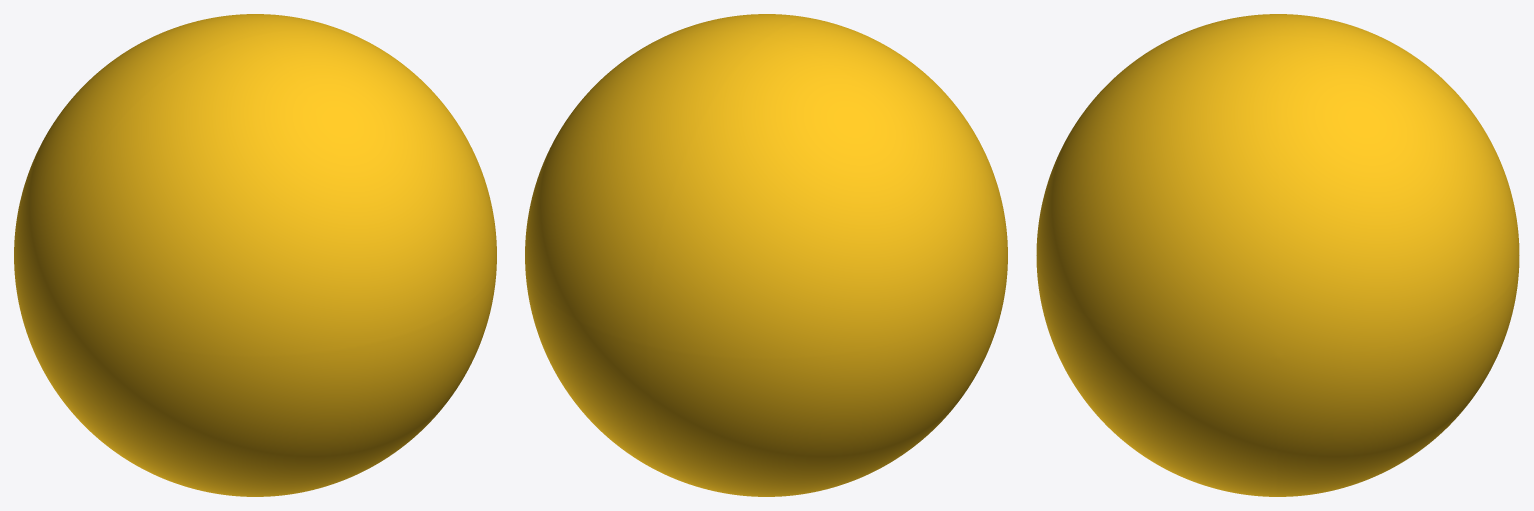
The model's file is yellow_sphere.glb.
The picture shows the model from 3 angles, left to right: view 1: azimuth 30°, elevation 25°; view 2: azimuth 150°, elevation 25°; view 3: azimuth 270°, elevation 25°; orthographic projection.
Parts seen in each view (by area): view 1: sphereestlcleanermaterialmergergles; view 2: sphereestlcleanermaterialmergergles; view 3: sphereestlcleanermaterialmergergles.
Part boxes in pixels (box(x1,y1,x2,y2)): sphereestlcleanermaterialmergergles: box(14, 14, 496, 496); sphereestlcleanermaterialmergergles: box(525, 14, 1007, 496); sphereestlcleanermaterialmergergles: box(1036, 14, 1519, 496).
Bounding box in the file's own units: 20 × 20 × 20.
